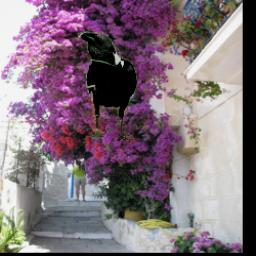Crow: (78, 31, 137, 141)
